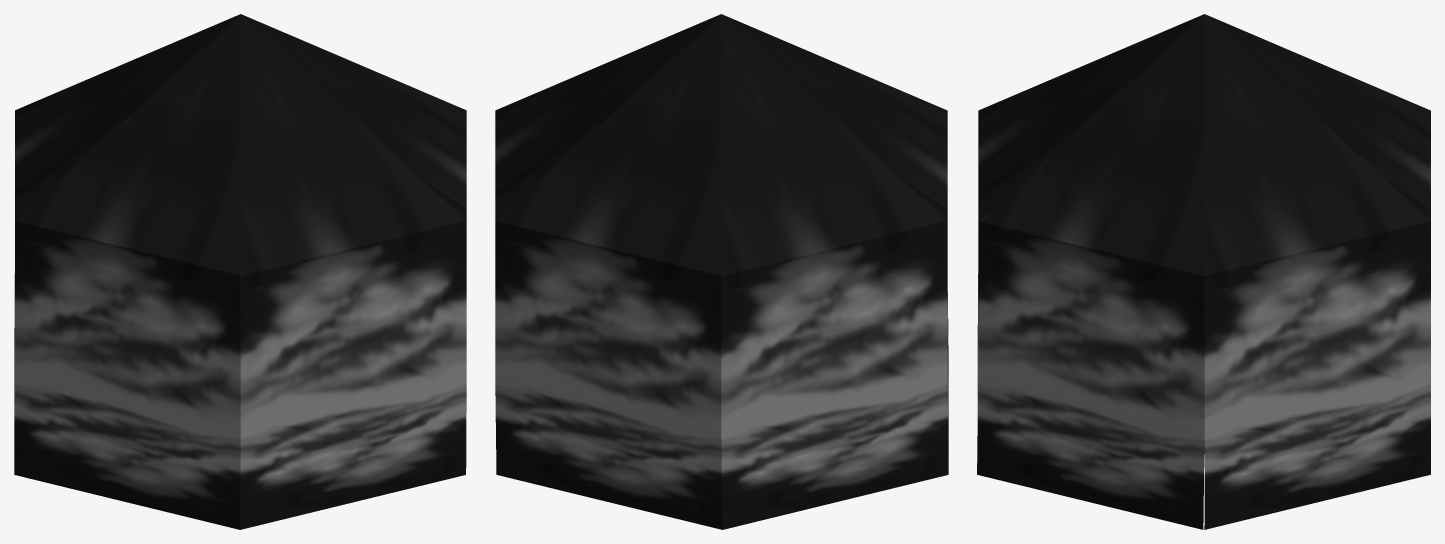
Rendered from skybox.fbx.
3 renders of one model, left to right at view 1: azimuth 30°, elevation 25°; view 2: azimuth 150°, elevation 25°; view 3: azimuth 270°, elevation 25°, orthographic.
Parts seen in each view (by area): view 1: sky; view 2: sky; view 3: sky.
Part boxes in pixels (box(x1,y1,x2,y2)): sky: box(14, 14, 466, 529); sky: box(495, 14, 948, 529); sky: box(977, 14, 1430, 529).
Bounding box in the file's own units: 699 × 605 × 606.
8 materials, 8 textured.
